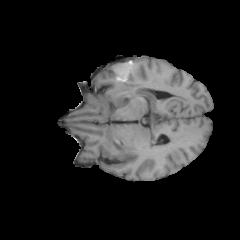glioma: (107, 58, 152, 105)
